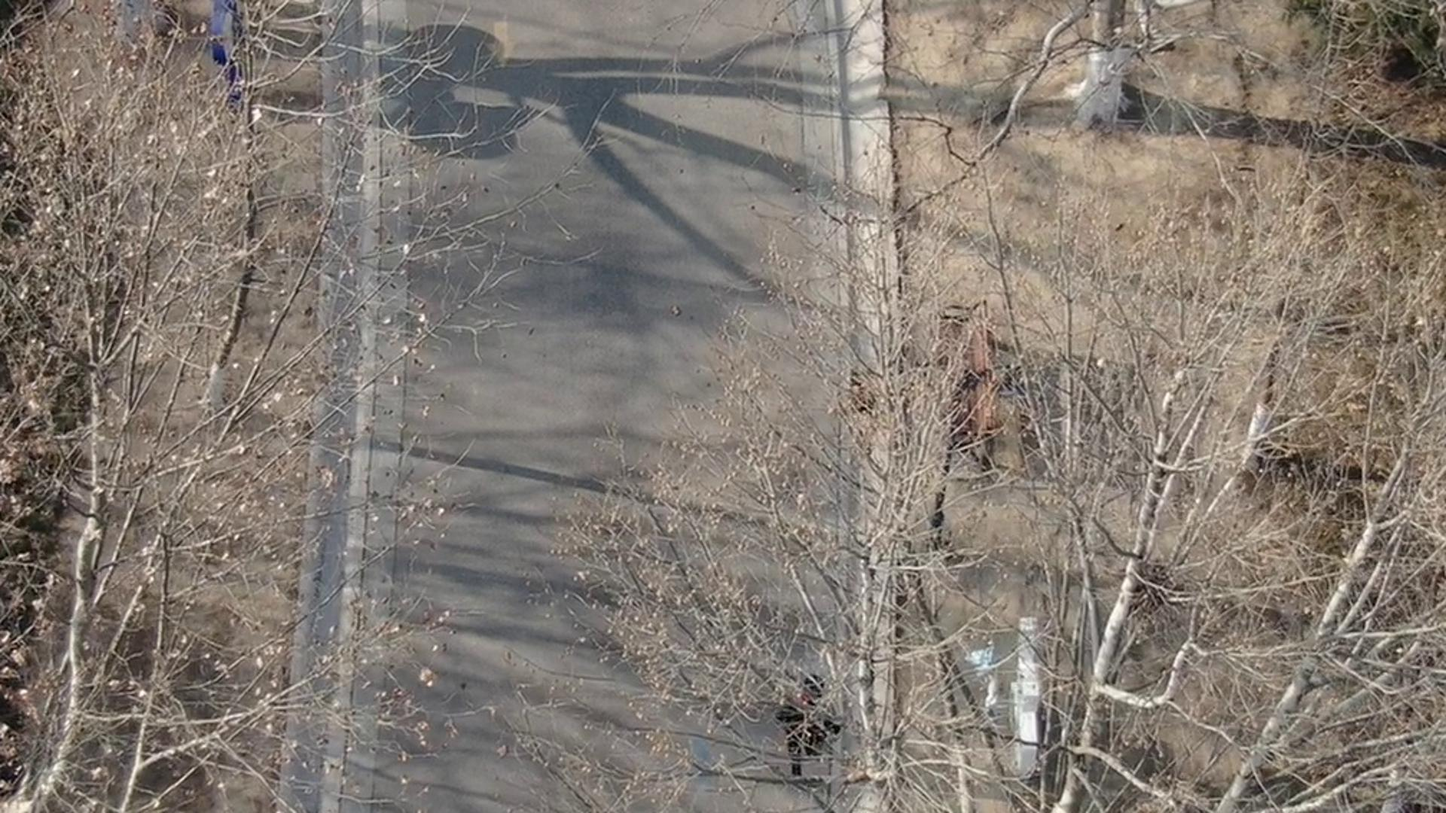human: (781, 665, 831, 772)
